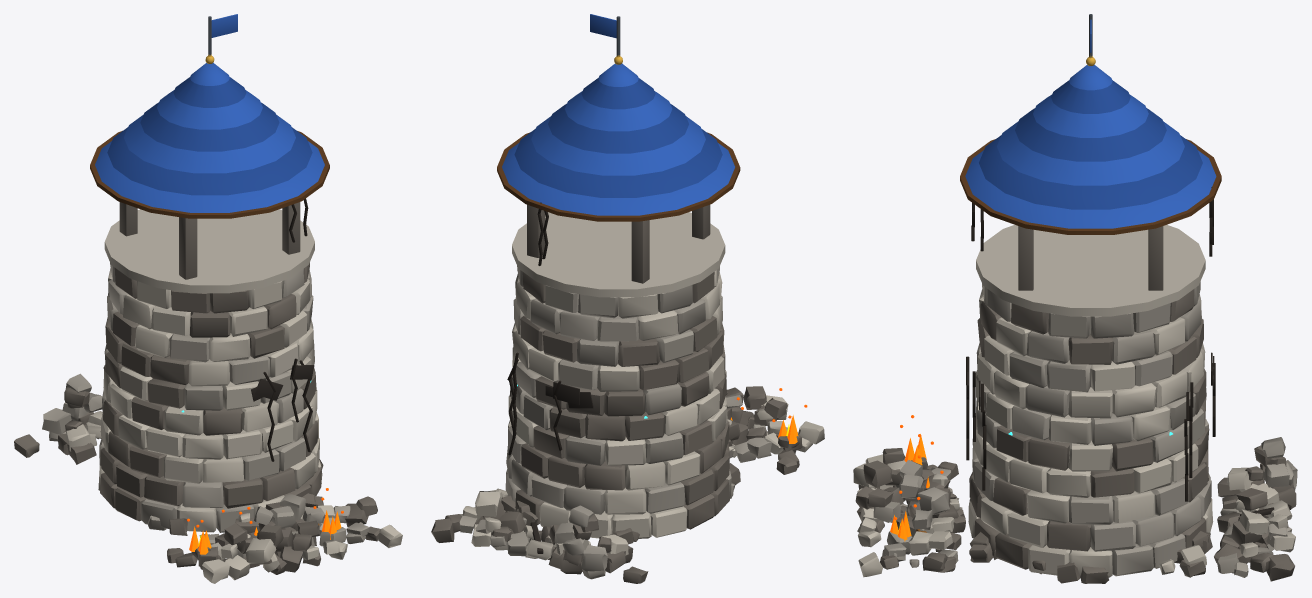
Rendered from wieza_etap5.glb.
3 renders of one model, left to right at view 1: azimuth 30°, elevation 25°; view 2: azimuth 150°, elevation 25°; view 3: azimuth 270°, elevation 25°, orthographic. The views are drawn at different scales.
Visible parts, largest first — view 1: wieza_etap5; view 2: wieza_etap5; view 3: wieza_etap5.
Part boxes in pixels (<box>): wieza_etap5: <box>14,14,402,583</box>; wieza_etap5: <box>431,14,824,583</box>; wieza_etap5: <box>853,14,1297,583</box>.
Bounding box in the file's own units: 7.06 × 14.99 × 11.6.
